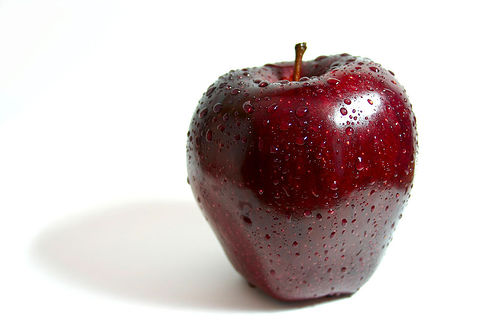apple: (184, 43, 417, 303)
